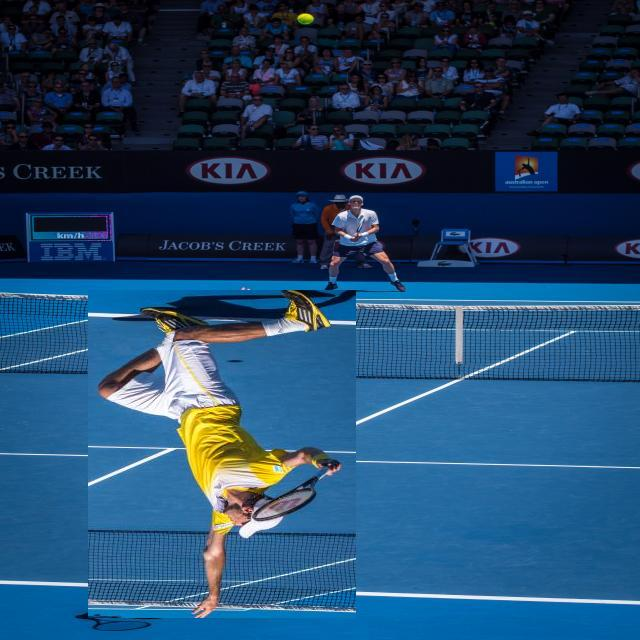net: (1, 285, 640, 378)
player: (88, 290, 356, 618)
